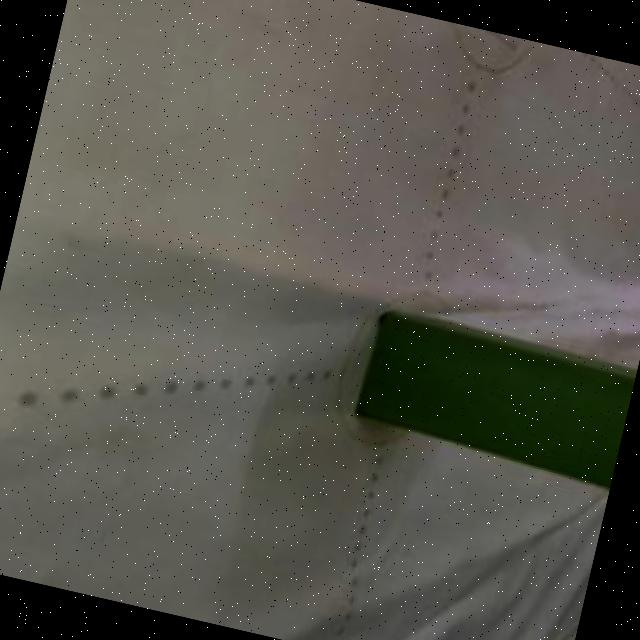greenbox: (352, 304, 638, 488)
